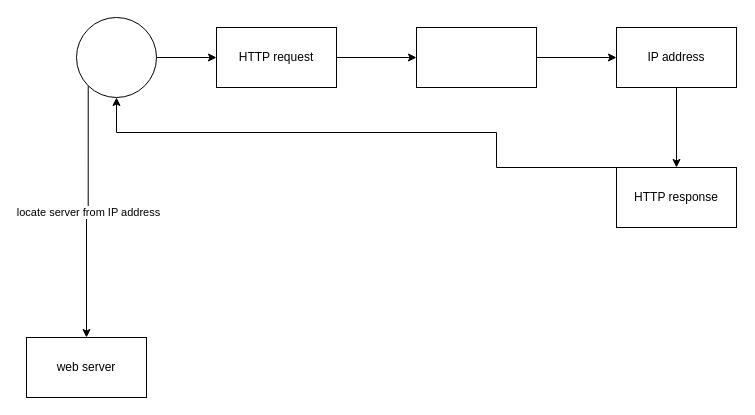
Image size: 755x415. Some labels were removed from this diagram. The shapes that lost their labels are listed below. From the top down, each one's centre as x and y in pixels, then its label:
point 116,57: Client
point 476,57: DNS server
